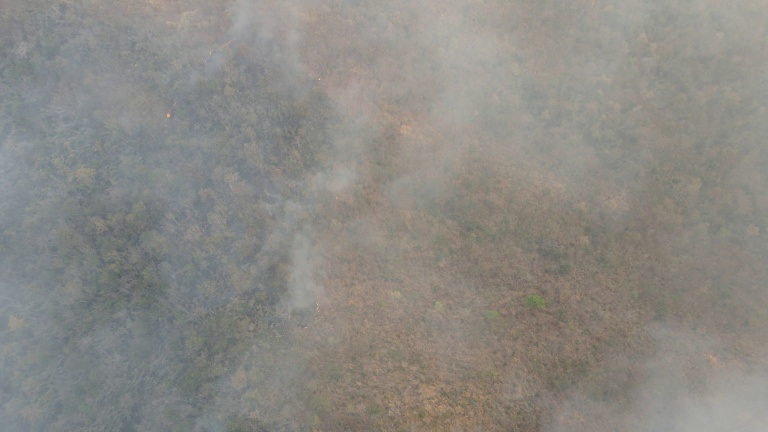fire: (166, 97, 177, 128)
smoke: (1, 1, 346, 431), (360, 1, 768, 180), (498, 293, 768, 432)
